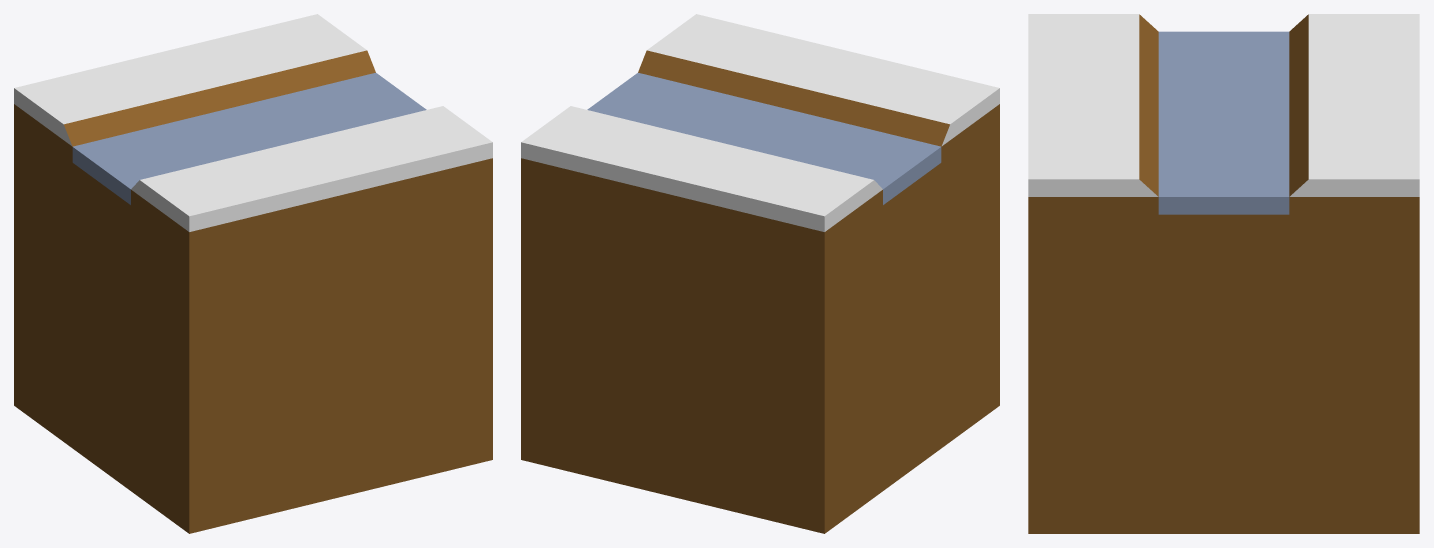
Rendered from WinterRiverStraightCube.fbx.
3 views of the same model, side by side, from view 1: azimuth 30°, elevation 25°; view 2: azimuth 150°, elevation 25°; view 3: azimuth 270°, elevation 25° (orthographic). The views are drawn at different scales.
Parts seen in each view (by area): view 1: WinterRiverStraightCube; view 2: WinterRiverStraightCube; view 3: WinterRiverStraightCube.
Part boxes in pixels (box(x1,y1,x2,y2)): WinterRiverStraightCube: box(14, 14, 492, 533); WinterRiverStraightCube: box(521, 14, 999, 533); WinterRiverStraightCube: box(1028, 14, 1419, 533).
Size of the model in its own units: 1 by 1 by 1.
